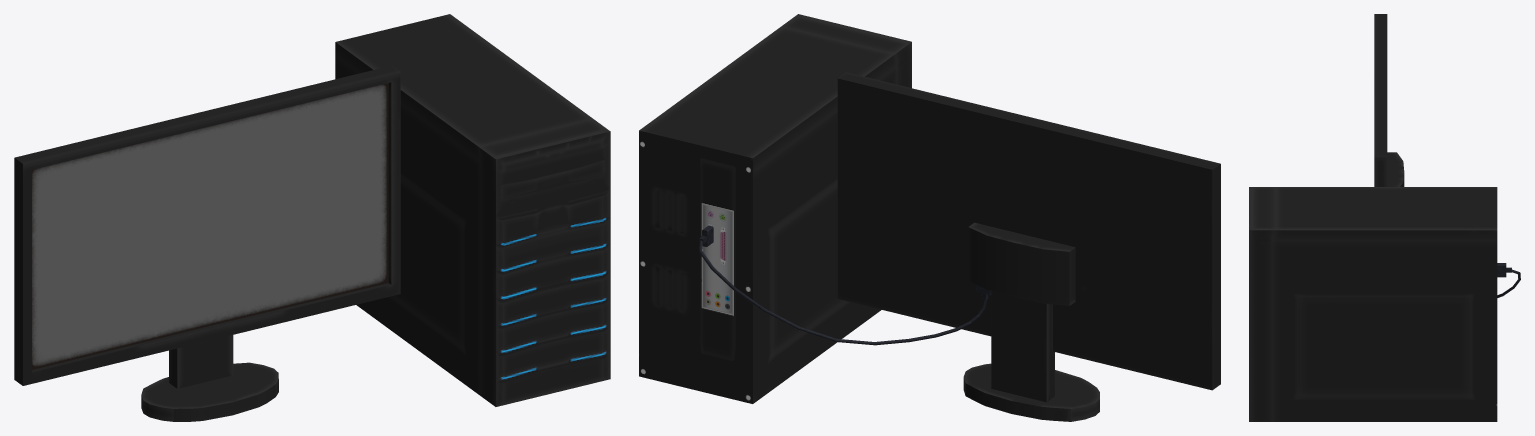
3 views of the same model, side by side, from view 1: azimuth 30°, elevation 25°; view 2: azimuth 150°, elevation 25°; view 3: azimuth 270°, elevation 25° (orthographic). The views are drawn at different scales.
Parts seen in each view (by area): view 1: pc_case.001, Cube.001; view 2: pc_case.001, Cube.001, BézierCurve; view 3: Cube.001, pc_case.001.
Boxes of the visible parts, x1,y1,x2,y2 form: pc_case.001: [14, 65, 400, 421]; Cube.001: [335, 14, 610, 406]; pc_case.001: [837, 72, 1220, 421]; Cube.001: [639, 14, 911, 403]; BézierCurve: [699, 240, 987, 345]; Cube.001: [1249, 187, 1497, 421]; pc_case.001: [1374, 14, 1404, 186].
Bounding box in the file's own units: 96.45 × 51.32 × 57.88.
Materials: 2 (2 with a texture image).
